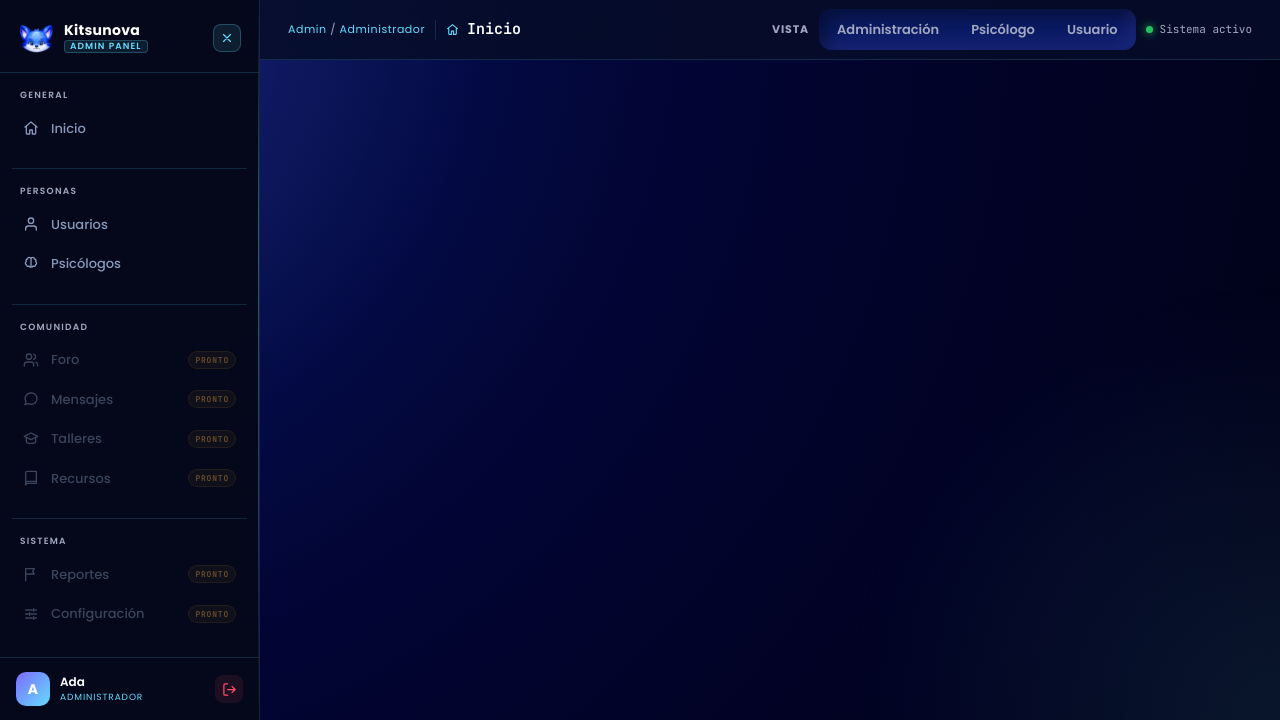
Test: AdminLayout › toggles the sidebar
Click the button named "Colapsar menú": (227, 38) [213,24,241,52]
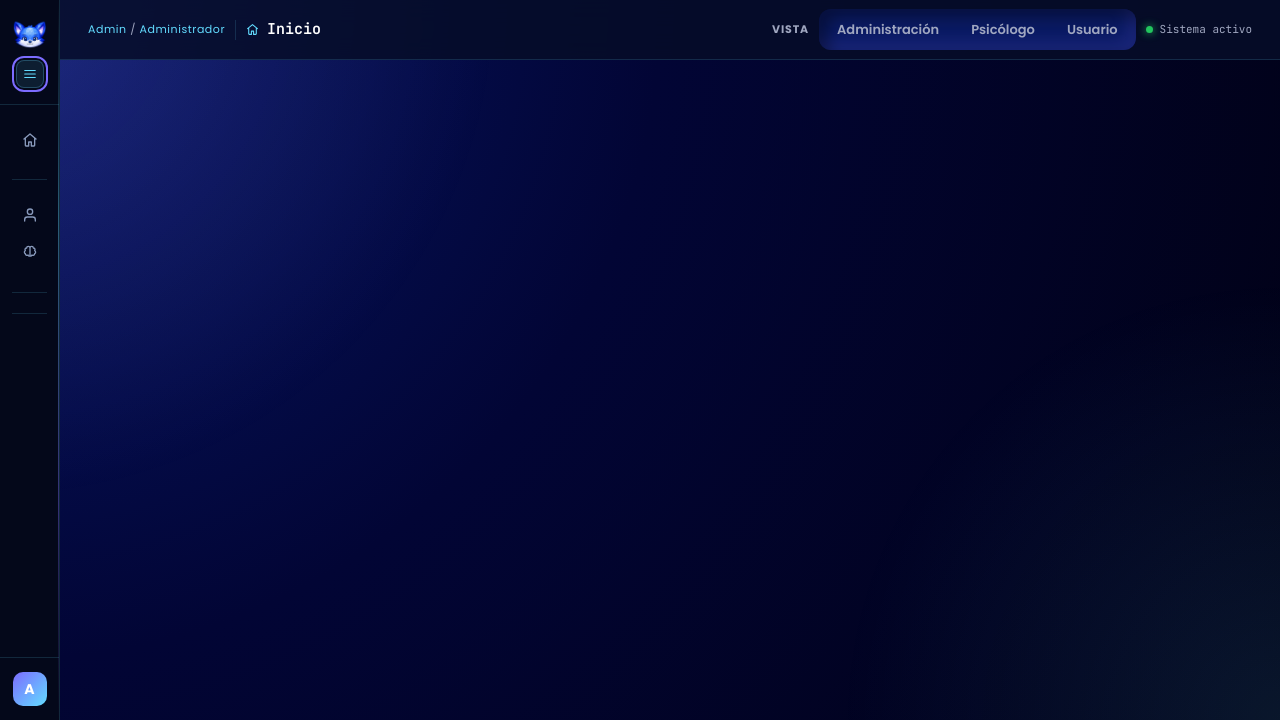
Expected: the button named "Expandir menú" is shown, [16,60,44,88]
